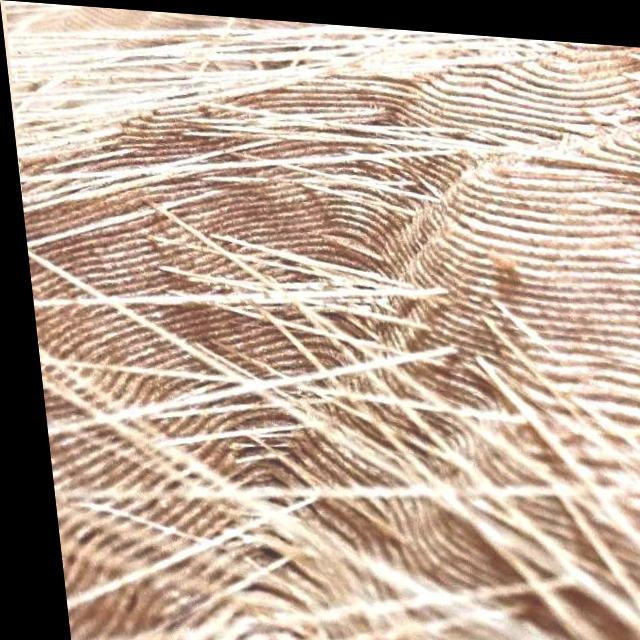stringing: (9, 20, 318, 100), (295, 334, 459, 425), (220, 254, 384, 336), (259, 104, 450, 170), (460, 438, 592, 533), (195, 339, 304, 439), (195, 502, 275, 572), (112, 379, 196, 432), (82, 284, 200, 315)
